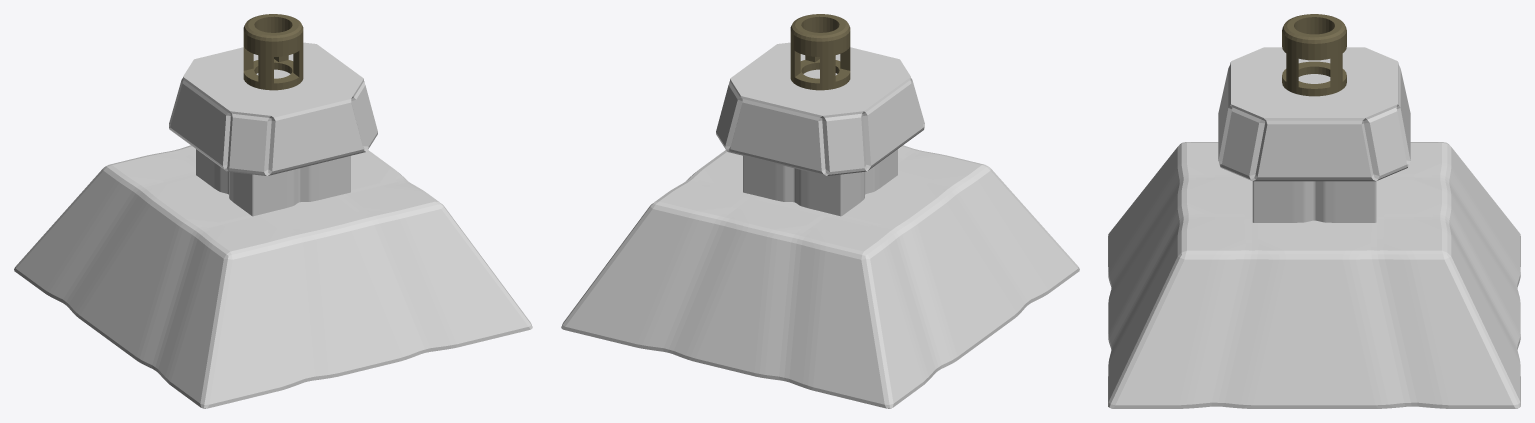
The model's file is Level1.fbx.
3 renders of one model, left to right at view 1: azimuth 30°, elevation 25°; view 2: azimuth 150°, elevation 25°; view 3: azimuth 270°, elevation 25°, orthographic. The views are drawn at different scales.
Visible parts, largest first — view 1: base, container; view 2: base, container; view 3: base, container.
Part boxes in pixels (left/top/right/bottom): base: left=14, top=42, right=532, bottom=408; container: left=243, top=14, right=303, bottom=90; base: left=561, top=42, right=1079, bottom=408; container: left=790, top=14, right=850, bottom=90; base: left=1108, top=47, right=1520, bottom=408; container: left=1282, top=14, right=1346, bottom=96.
Size of the model in its own units: 198 by 157 by 198.
